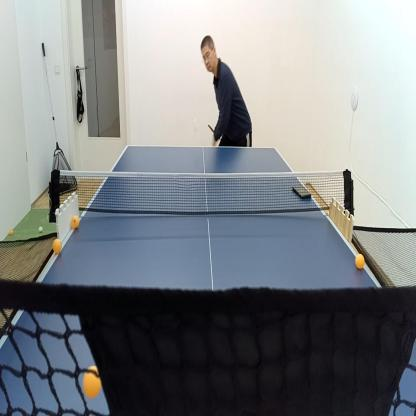Ball: (83, 365, 100, 398), (356, 254, 364, 270), (53, 240, 62, 254), (71, 216, 79, 229), (193, 118, 198, 128), (8, 229, 14, 235), (40, 226, 44, 232)
